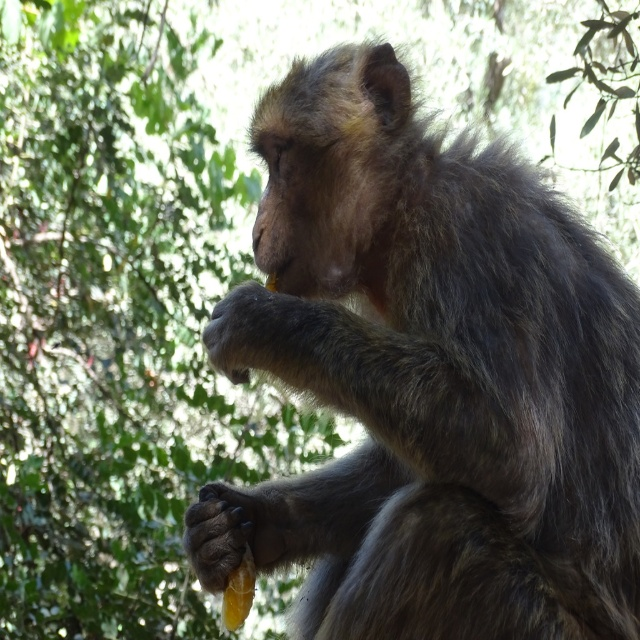Monkey: (183, 43, 640, 636)
